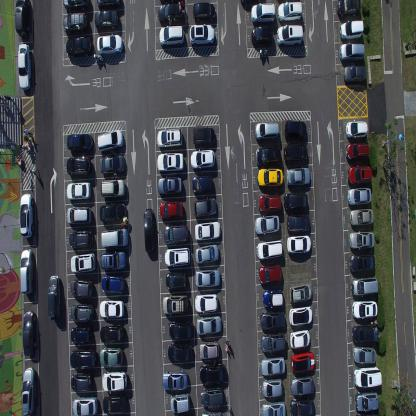car: (21, 365, 38, 415), (16, 42, 31, 91), (19, 191, 34, 239), (352, 365, 382, 388), (20, 246, 34, 294), (22, 310, 36, 358), (100, 369, 127, 393), (156, 151, 184, 174), (96, 33, 122, 57), (48, 274, 61, 322), (276, 23, 303, 46), (156, 126, 183, 149), (194, 219, 221, 242), (256, 238, 283, 261), (290, 351, 316, 374), (199, 362, 226, 384), (351, 276, 378, 298), (283, 118, 307, 142), (339, 18, 364, 41), (347, 163, 372, 186), (288, 304, 313, 327), (276, 0, 302, 22), (164, 245, 190, 267), (196, 313, 222, 335), (162, 293, 188, 315), (162, 369, 188, 391), (254, 214, 280, 236), (286, 234, 312, 256), (261, 331, 287, 353), (352, 323, 378, 345), (99, 178, 127, 198), (251, 24, 274, 48), (143, 207, 155, 253), (164, 223, 188, 246), (250, 1, 275, 23), (97, 128, 122, 150), (254, 120, 279, 142), (290, 375, 315, 397), (190, 149, 216, 170), (167, 342, 193, 363), (257, 167, 283, 188), (260, 310, 286, 331), (260, 355, 286, 376), (349, 254, 376, 274), (67, 132, 94, 152), (351, 300, 378, 320), (68, 351, 96, 370), (346, 140, 370, 162), (194, 197, 218, 219), (284, 142, 308, 164), (286, 166, 310, 188), (258, 263, 282, 285), (354, 390, 378, 412), (347, 186, 372, 207), (189, 23, 214, 44), (72, 394, 97, 415), (102, 394, 127, 415), (195, 243, 220, 264), (257, 193, 282, 214), (339, 42, 365, 62), (349, 230, 375, 250), (158, 26, 184, 46), (194, 268, 220, 288), (168, 320, 194, 340), (255, 146, 281, 166), (156, 176, 183, 195), (63, 10, 86, 32), (70, 276, 93, 298), (102, 272, 124, 295), (289, 282, 312, 304), (14, 0, 28, 36), (99, 154, 127, 172), (99, 202, 127, 220), (70, 302, 94, 323), (194, 293, 218, 314), (349, 206, 374, 226), (70, 371, 92, 393), (200, 386, 223, 407), (343, 64, 367, 84), (284, 192, 308, 212), (286, 213, 310, 233), (352, 344, 376, 364), (100, 230, 128, 247), (67, 204, 92, 223), (101, 251, 126, 270), (158, 2, 184, 20), (68, 230, 94, 248), (70, 254, 96, 272), (191, 174, 213, 195), (169, 391, 190, 413), (262, 288, 284, 309), (262, 377, 284, 398), (345, 119, 368, 139), (100, 347, 124, 366), (159, 201, 183, 220), (336, 0, 361, 18), (66, 36, 91, 54), (99, 300, 124, 318), (198, 339, 219, 360), (193, 126, 215, 146), (95, 10, 118, 29), (66, 156, 90, 174), (100, 324, 124, 342), (289, 329, 310, 349), (165, 272, 188, 290), (192, 2, 216, 19), (289, 400, 314, 416), (70, 326, 91, 344), (67, 182, 90, 198), (261, 401, 286, 415), (96, 0, 121, 9), (63, 0, 87, 8), (200, 410, 222, 416)
